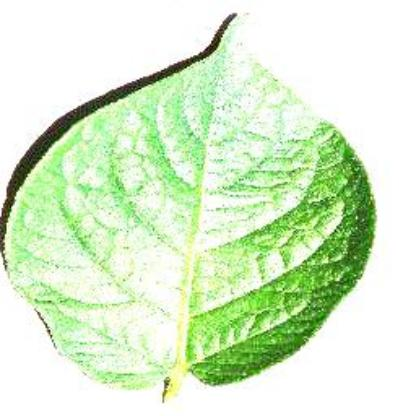Healthy-plant: (9, 18, 380, 398)
